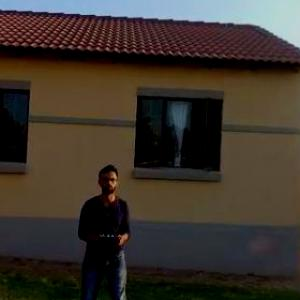follow: (70, 161, 135, 299)
